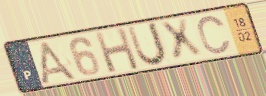6: (67, 35, 102, 78)
A: (38, 39, 80, 85)
C: (196, 14, 233, 56)
H: (92, 26, 143, 75)
U: (124, 20, 170, 69)
X: (157, 16, 206, 64)
